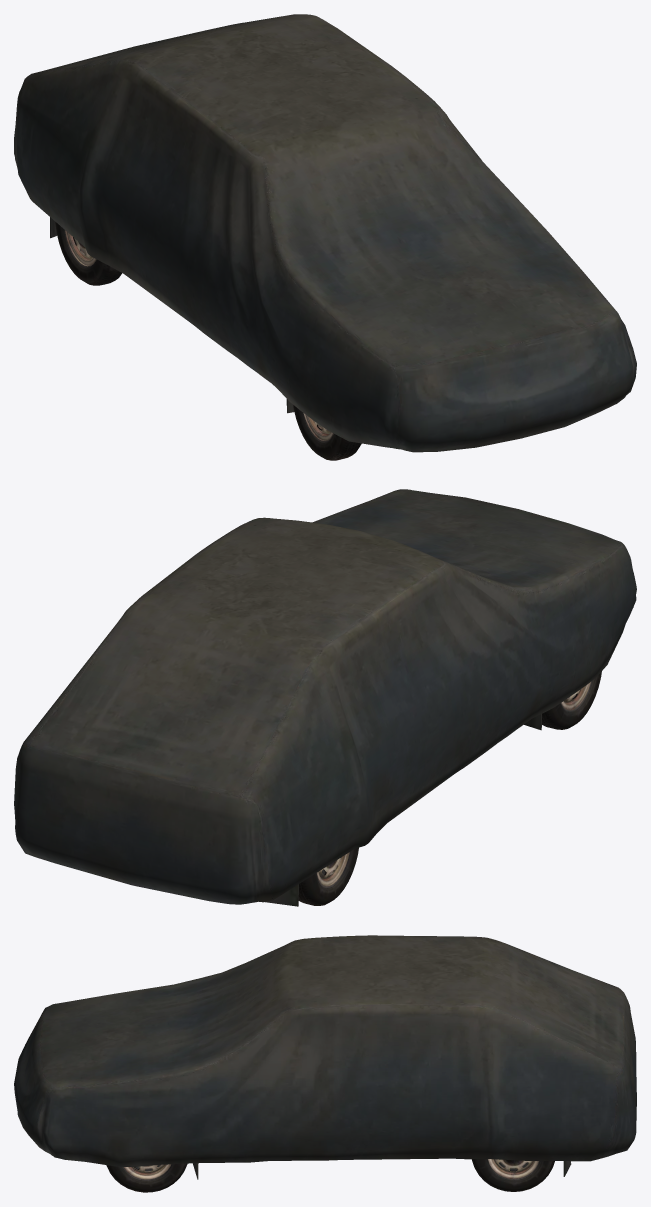
Rendered from covered_car.glb.
3 views of the same model, one above another, from view 1: azimuth 30°, elevation 25°; view 2: azimuth 150°, elevation 25°; view 3: azimuth 270°, elevation 25° (orthographic). The views are drawn at different scales.
Parts seen in each view (by area): view 1: covered_car, covered_car_wheel_03, covered_car_wheel_02; view 2: covered_car, covered_car_wheel_03, covered_car_wheel_02; view 3: covered_car, covered_car_wheel_04, covered_car_wheel_01.
Part boxes in pixels (x1,y1,x2,y2): covered_car: (14, 14, 636, 452); covered_car_wheel_03: (55, 222, 121, 285); covered_car_wheel_02: (293, 405, 361, 460); covered_car: (14, 489, 636, 906); covered_car_wheel_03: (298, 847, 358, 905); covered_car_wheel_02: (542, 671, 601, 729); covered_car: (14, 935, 636, 1179); covered_car_wheel_04: (472, 1159, 554, 1191); covered_car_wheel_01: (106, 1163, 187, 1192).
Bounding box in the file's own units: 1.79 × 1.41 × 4.38.
1 material, 1 textured.
